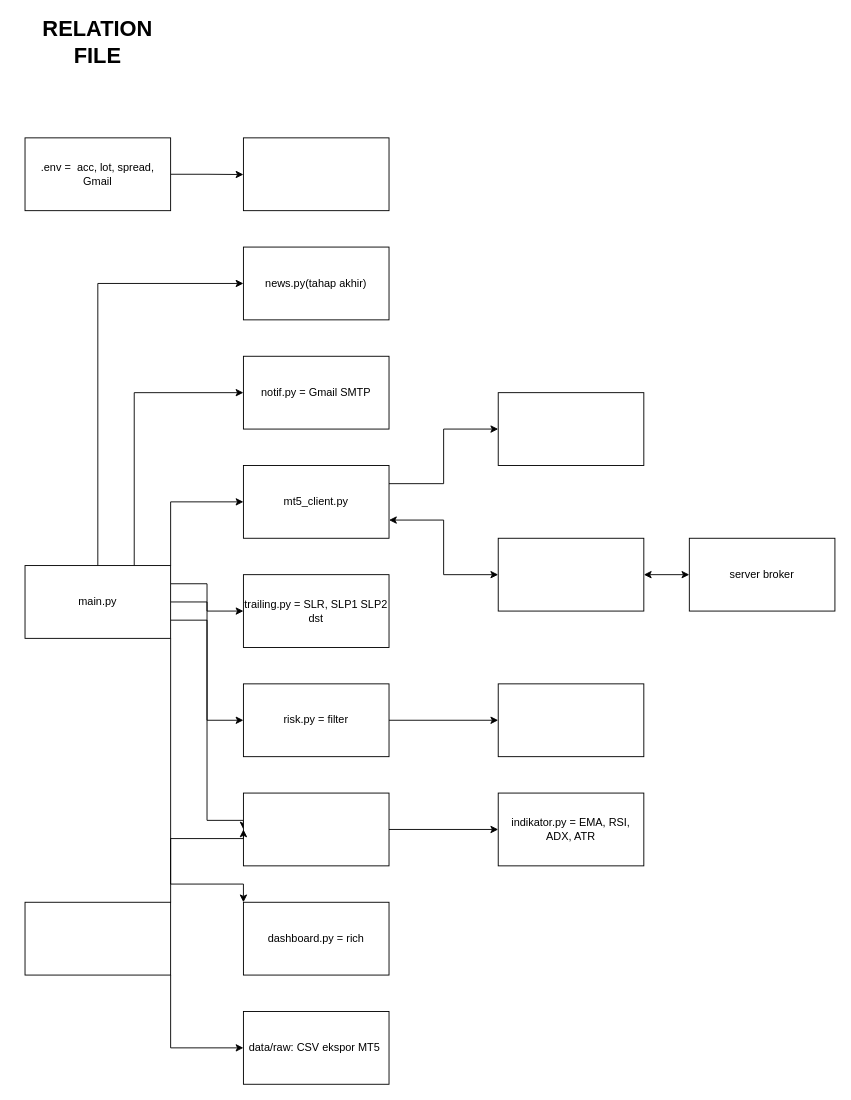
Image size: 851x1100. Some labels were removed from this diagram. Here are the shapes that lost their labels. From the top down, the centre of each, then its label:
At (316,174): "config.py".
At (570,428): "logs: bot.log, trades.csv".
At (570,574): "Terminal MT5".
At (570,720): "state.py = data/state.json".
At (316,829): "strategy.py = signal buy/sell".
At (97,938): "backtest/run_backtest.py".
